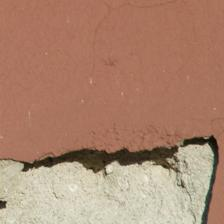Crack: (61, 56, 150, 169), (177, 0, 224, 88)
